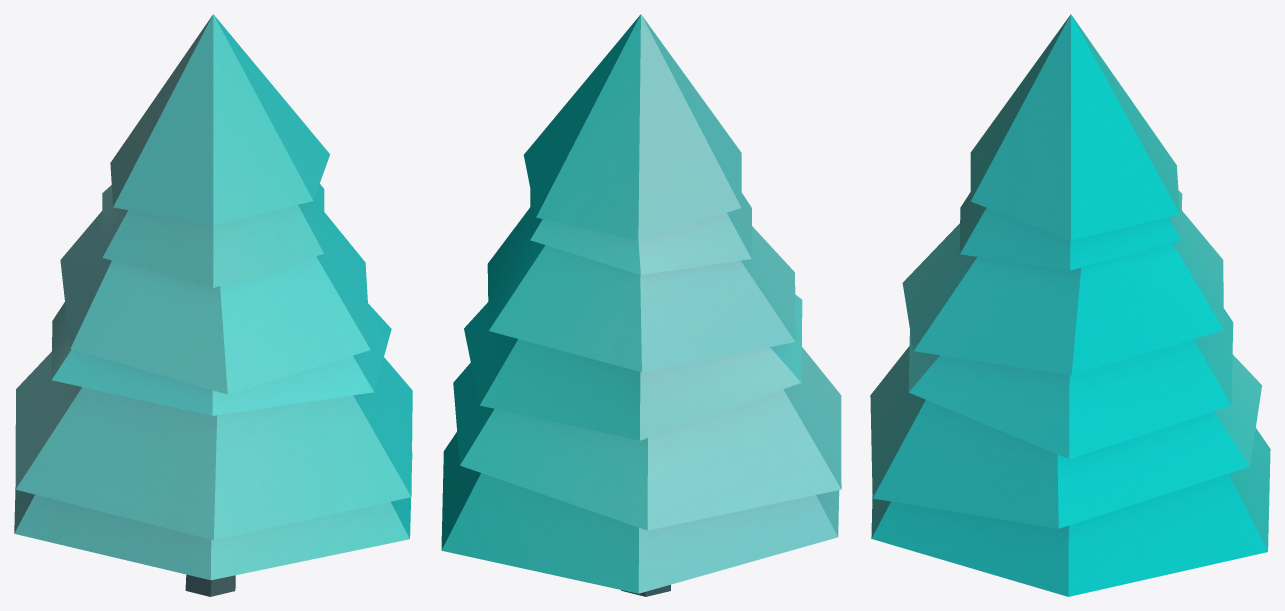
The model's file is tree.FBX.
3 renders of one model, left to right at view 1: azimuth 30°, elevation 25°; view 2: azimuth 150°, elevation 25°; view 3: azimuth 270°, elevation 25°, orthographic.
Visible parts, largest first — view 1: Cone001; view 2: Cone001; view 3: Cone001.
Boxes of the visible parts, bbox=[...] form: Cone001: bbox=[14, 14, 412, 596]; Cone001: bbox=[441, 14, 841, 596]; Cone001: bbox=[870, 14, 1270, 596].
Bounding box in the file's own units: 39.55 × 54.21 × 34.46.
